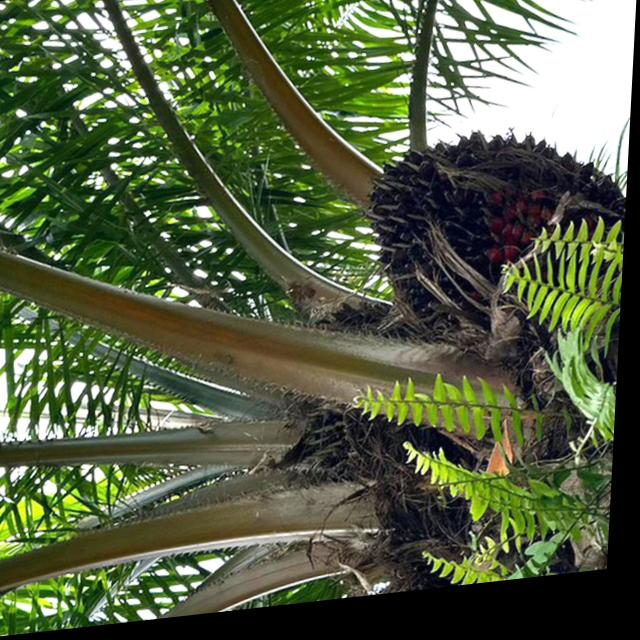ripe: (357, 141, 623, 363)
